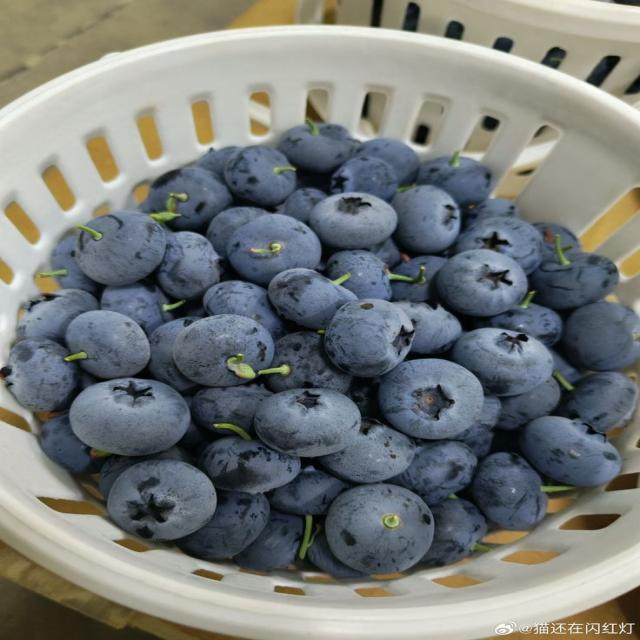blueberry: (326, 484, 433, 574), (70, 378, 189, 456), (107, 460, 216, 540), (379, 359, 483, 439), (254, 389, 360, 457), (520, 416, 621, 486), (174, 315, 273, 386), (325, 299, 413, 377), (452, 329, 553, 396), (227, 214, 321, 285), (76, 211, 166, 285), (176, 490, 270, 560), (319, 418, 415, 483), (437, 250, 527, 316), (199, 436, 300, 493), (473, 453, 547, 530), (0, 339, 79, 411), (67, 311, 150, 379), (389, 441, 477, 504), (268, 269, 357, 329), (309, 189, 397, 249), (267, 332, 352, 394), (563, 302, 639, 371), (148, 168, 232, 230), (530, 252, 619, 309), (455, 217, 542, 274), (99, 446, 193, 498), (203, 280, 285, 339), (558, 372, 638, 432), (475, 292, 562, 347), (392, 186, 460, 253), (156, 231, 221, 299), (17, 290, 98, 343), (225, 146, 296, 206), (422, 500, 486, 566), (234, 509, 303, 570), (278, 122, 357, 173), (192, 385, 271, 436), (417, 154, 493, 207), (268, 466, 350, 515), (100, 280, 173, 335), (40, 415, 106, 473), (394, 300, 461, 355), (148, 317, 197, 392), (39, 236, 99, 294), (496, 378, 560, 430), (326, 250, 392, 300), (331, 156, 399, 201), (207, 207, 267, 257), (354, 139, 419, 185), (455, 396, 500, 459), (307, 532, 366, 578), (391, 256, 446, 302), (463, 199, 519, 228), (533, 223, 582, 256), (282, 188, 326, 223), (194, 147, 240, 178), (348, 378, 382, 419), (549, 349, 582, 384), (177, 421, 210, 455), (367, 237, 401, 268), (296, 168, 331, 193), (490, 430, 521, 455)
